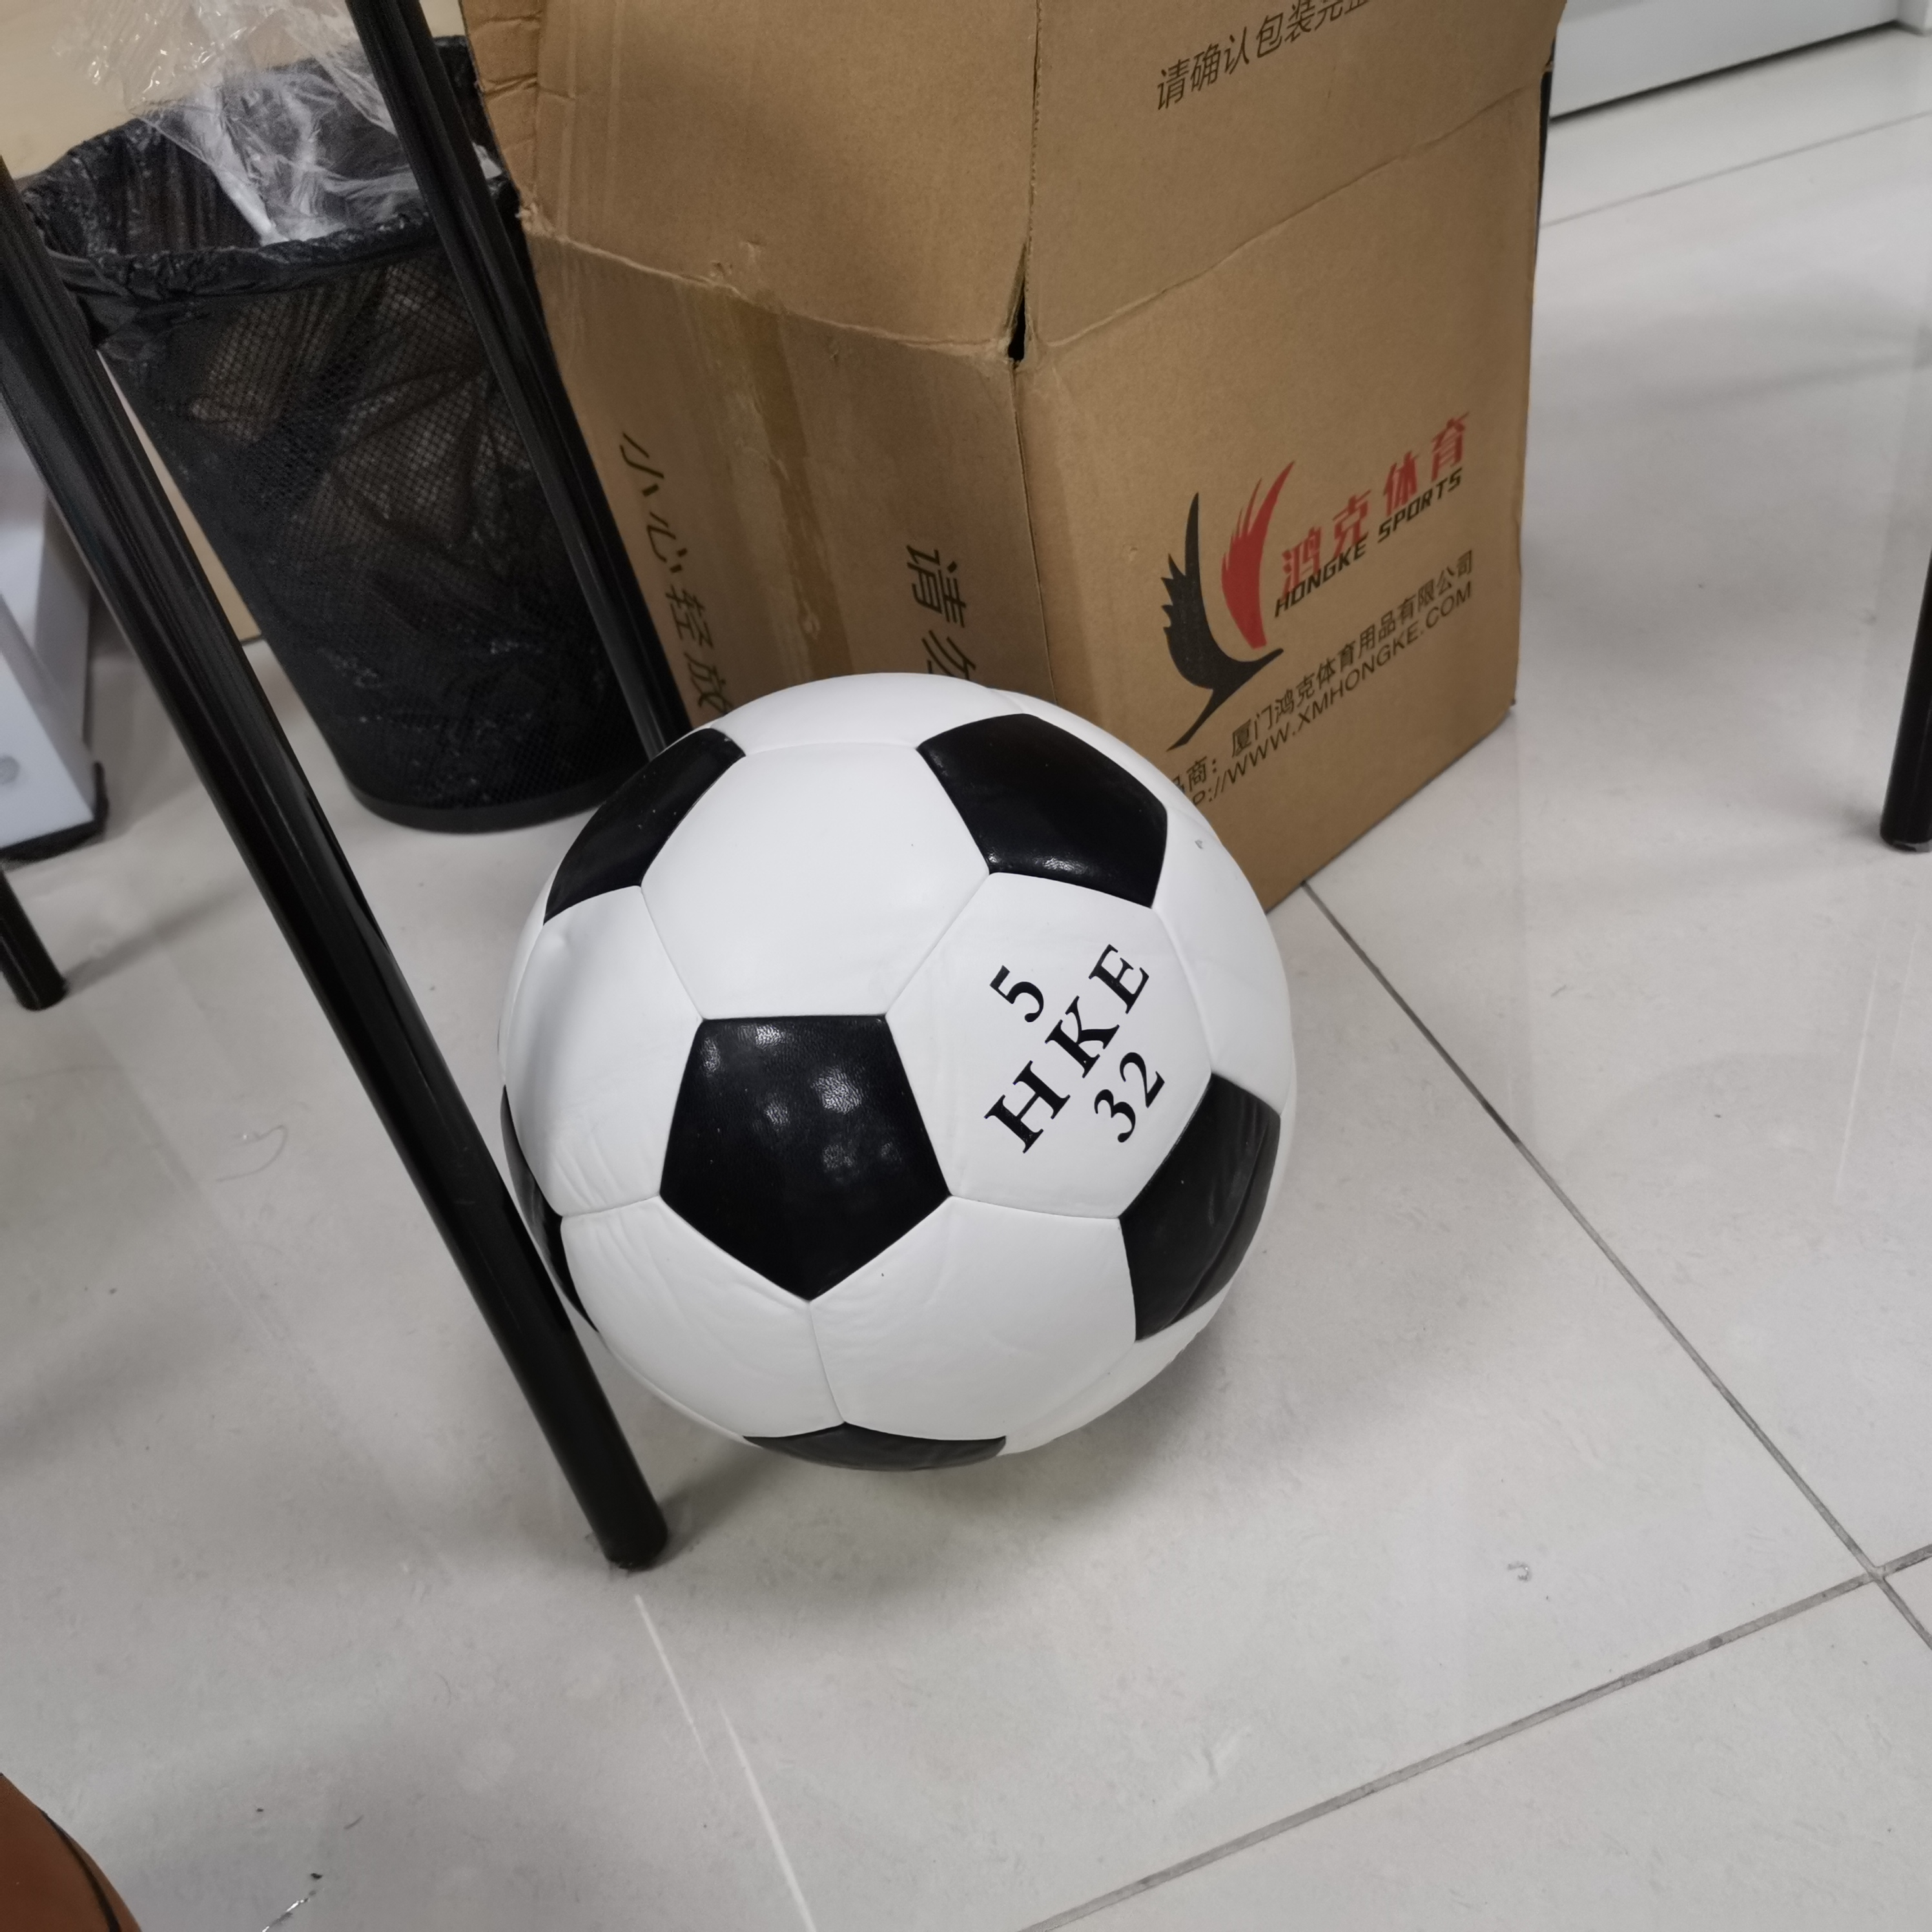football: (506, 665, 1293, 1481)
